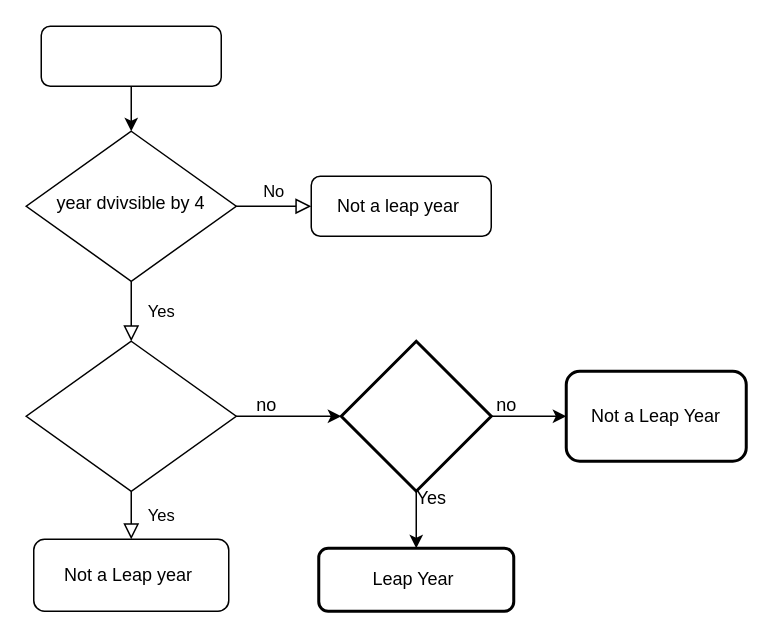
Image size: 774x639. Some labels were removed from this diagram. Here are the shapes that lost their labels. From the top down, the centre of each, then its label:
At pixel 130 55: "year".
At pixel 130 415: "year dvivsible by 100".
At pixel 415 415: "divisible by 400".
